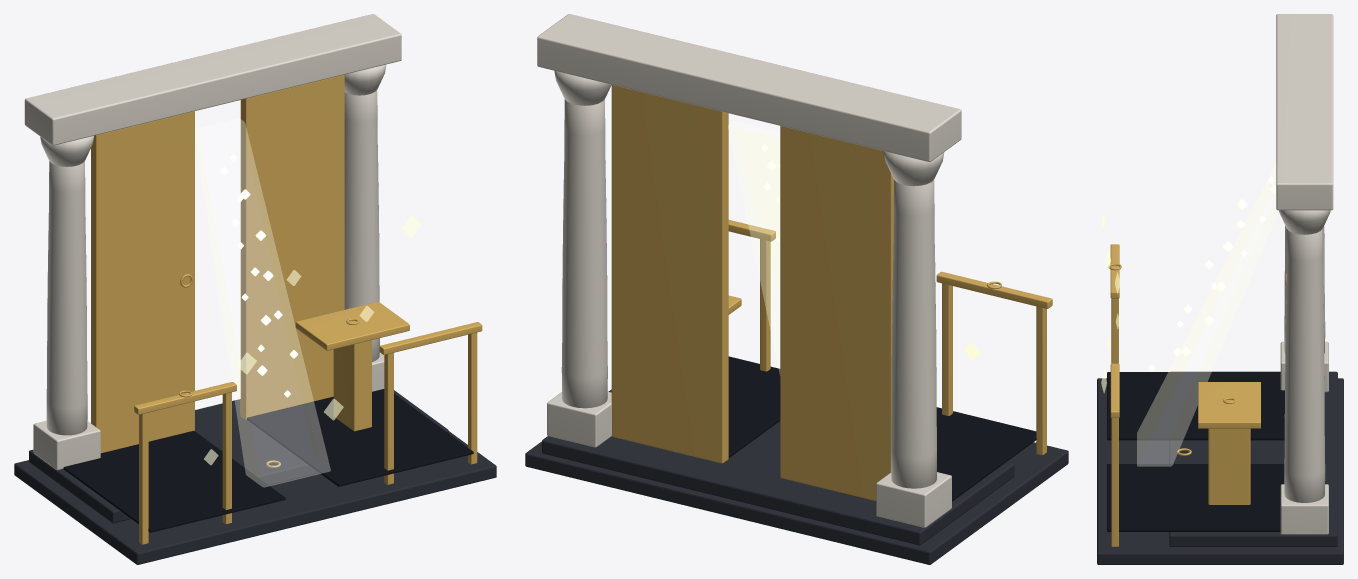
Rendered from webtoon-bokeh-slit-dust-motes-f18-v22.glb.
3 renders of one model, left to right at view 1: azimuth 30°, elevation 25°; view 2: azimuth 150°, elevation 25°; view 3: azimuth 270°, elevation 25°, orthographic. The views are drawn at different scales.
Visible parts, largest first — view 1: Articulated_V22Beat1_F18_DoorsAndIkRig, V22Beat1_F18_PortalColonnade, Volumetric_V22Beat1_F18_GodRaySlit, ShadowDrift_V22Beat1_F18_UmbraMask, V22Beat1_F18_DatumDeck, Atmospheric_V22Beat1_F18_FgBokehLayer, Atmospheric_V22Beat1_F18_MidMotes; view 2: Articulated_V22Beat1_F18_DoorsAndIkRig, V22Beat1_F18_PortalColonnade, V22Beat1_F18_DatumDeck, ShadowDrift_V22Beat1_F18_UmbraMask, Volumetric_V22Beat1_F18_GodRaySlit; view 3: V22Beat1_F18_PortalColonnade, ShadowDrift_V22Beat1_F18_UmbraMask, V22Beat1_F18_DatumDeck, Volumetric_V22Beat1_F18_GodRaySlit, Articulated_V22Beat1_F18_DoorsAndIkRig, Atmospheric_V22Beat1_F18_MidMotes, Atmospheric_V22Beat1_F18_FgBokehLayer.
Boxes of the visible parts, x1=… form: Articulated_V22Beat1_F18_DoorsAndIkRig: x1=91, y1=74, x2=482, y2=544; V22Beat1_F18_PortalColonnade: x1=24, y1=14, x2=401, y2=470; Volumetric_V22Beat1_F18_GodRaySlit: x1=195, y1=118, x2=330, y2=487; ShadowDrift_V22Beat1_F18_UmbraMask: x1=63, y1=389, x2=473, y2=532; V22Beat1_F18_DatumDeck: x1=14, y1=390, x2=496, y2=564; Atmospheric_V22Beat1_F18_FgBokehLayer: x1=204, y1=216, x2=421, y2=464; Atmospheric_V22Beat1_F18_MidMotes: x1=220, y1=154, x2=298, y2=397; Articulated_V22Beat1_F18_DoorsAndIkRig: x1=611, y1=85, x2=1052, y2=500; V22Beat1_F18_PortalColonnade: x1=537, y1=14, x2=961, y2=527; V22Beat1_F18_DatumDeck: x1=525, y1=389, x2=1068, y2=564; ShadowDrift_V22Beat1_F18_UmbraMask: x1=728, y1=356, x2=1036, y2=501; Volumetric_V22Beat1_F18_GodRaySlit: x1=728, y1=121, x2=779, y2=372; V22Beat1_F18_PortalColonnade: x1=1276, y1=14, x2=1333, y2=534; ShadowDrift_V22Beat1_F18_UmbraMask: x1=1107, y1=372, x2=1284, y2=531; V22Beat1_F18_DatumDeck: x1=1097, y1=371, x2=1343, y2=564; Volumetric_V22Beat1_F18_GodRaySlit: x1=1137, y1=164, x2=1278, y2=466; Articulated_V22Beat1_F18_DoorsAndIkRig: x1=1108, y1=244, x2=1286, y2=546; Atmospheric_V22Beat1_F18_MidMotes: x1=1148, y1=176, x2=1276, y2=371; Atmospheric_V22Beat1_F18_FgBokehLayer: x1=1101, y1=214, x2=1120, y2=392.
Size of the model in its own units: 2.76 by 2.78 by 1.64.
